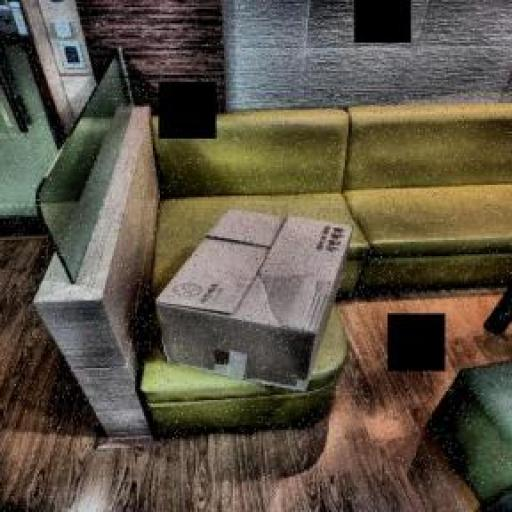box: (156, 200, 358, 396)
